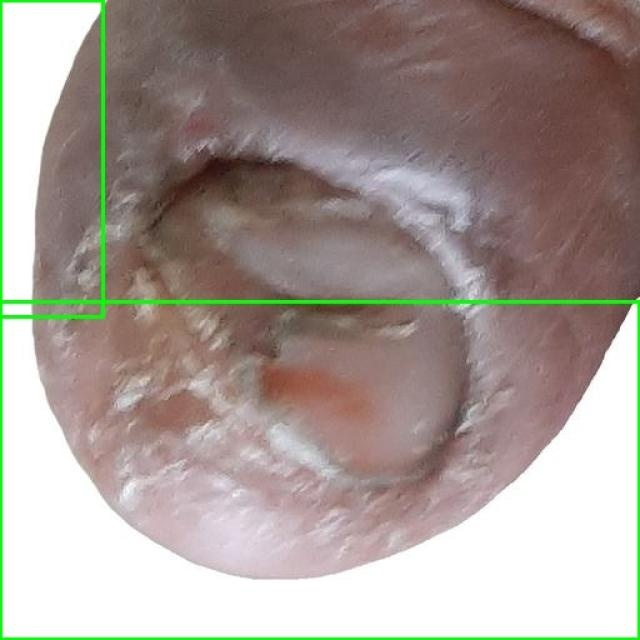Contact Dermatitis: (0, 301, 639, 639), (0, 0, 102, 316)
